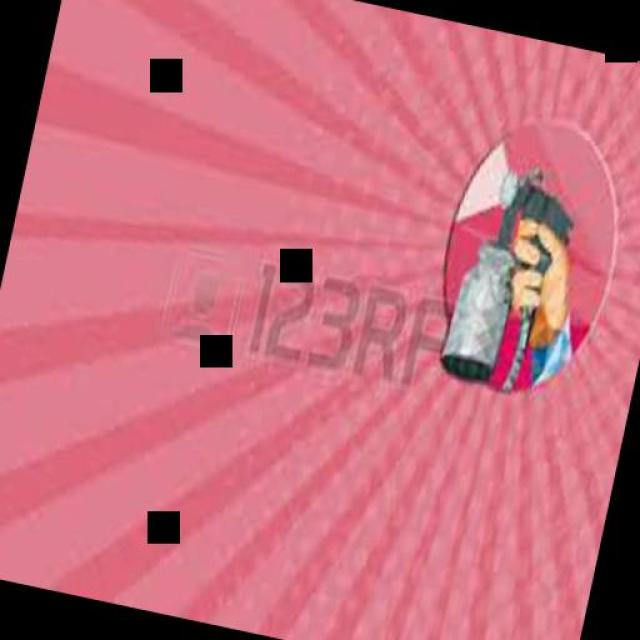gun: (482, 166, 580, 308)
